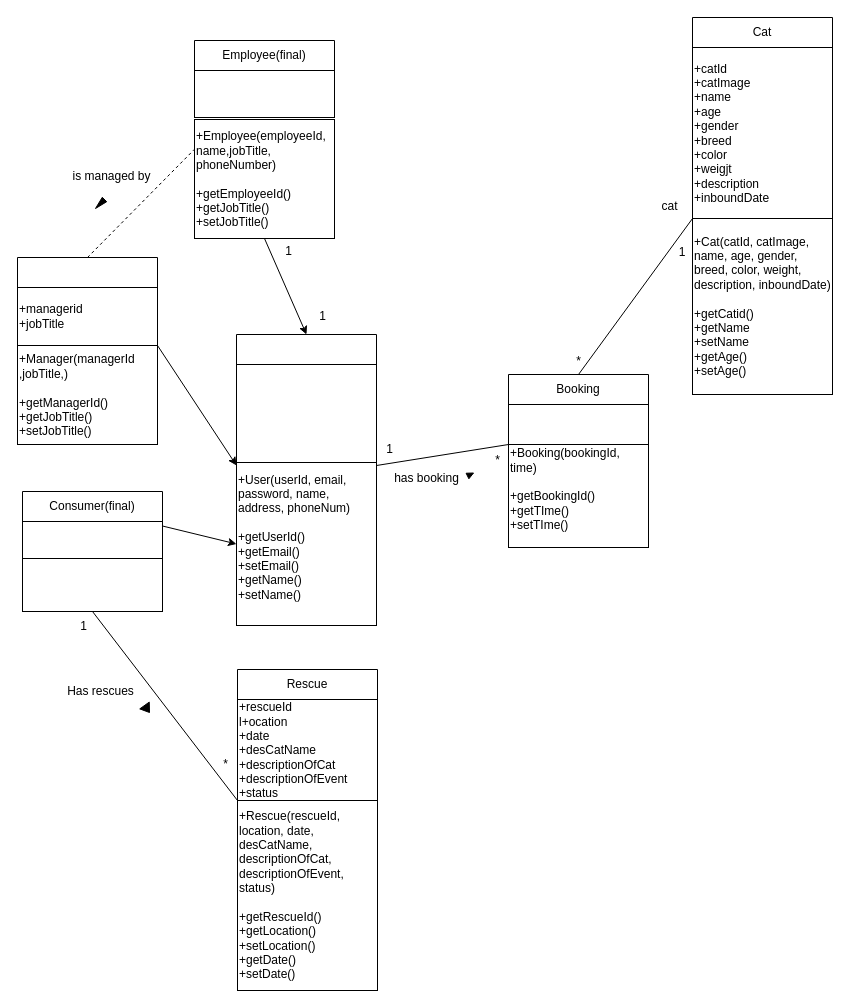
Image size: 850x1008. Some labels were removed from this diagram. The box of each missing label's shape, as (x1, y1, x2, y2) in pixels:
+bookingID +time: (508, 404, 648, 444)
+consumer(consumerId, ) +getconsumerid(): (22, 558, 162, 612)
+consumerId: (22, 520, 162, 560)
+employeeId +j obTitle: (194, 70, 334, 118)
+userID +email +password +name +address +phoneNum: (236, 364, 376, 466)
manager(final): (16, 256, 158, 346)
User(absract): (236, 334, 376, 466)
